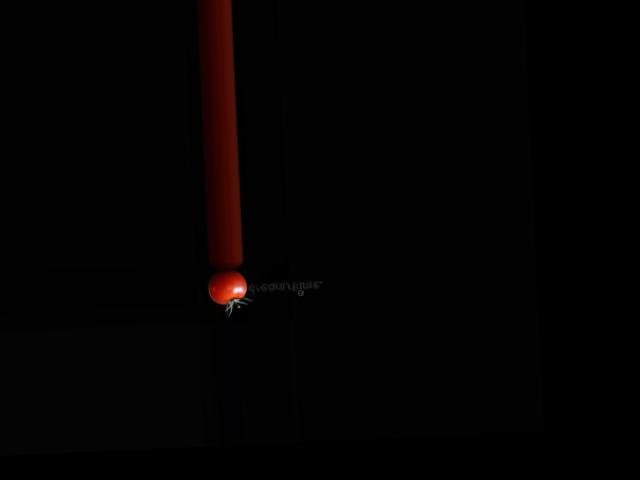tomato: (208, 269, 248, 304)
